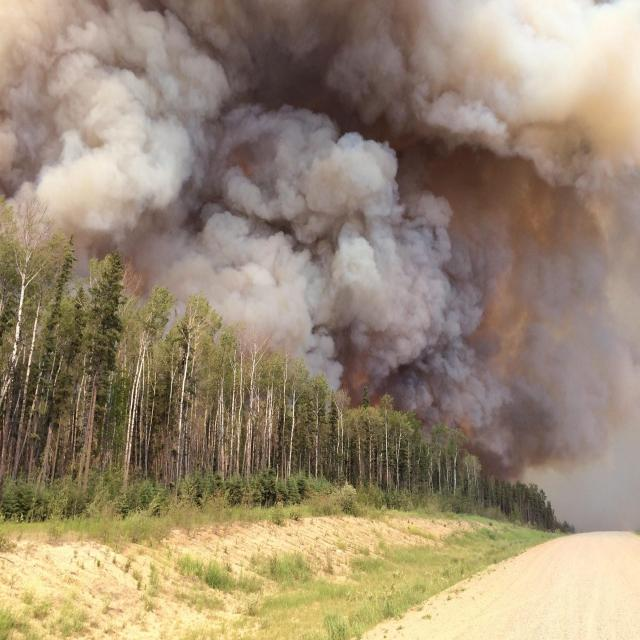Smoke: (0, 0, 638, 483)
